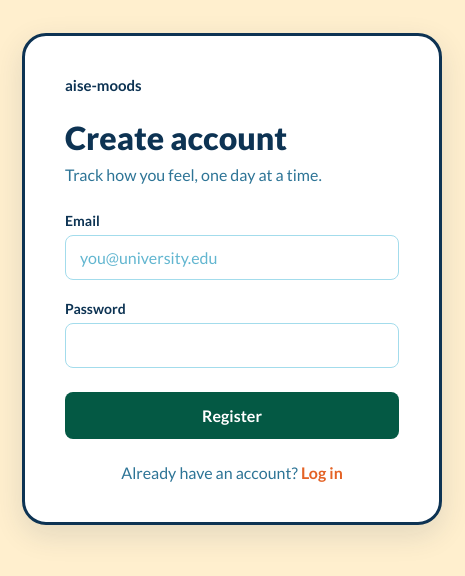
Test: Register screen › Input validation › shows error when email is empty
This screenshot has width=465, height=576.
Type "password123" into the password field labelled "Password" at (232, 346), box [65,323,399,368]
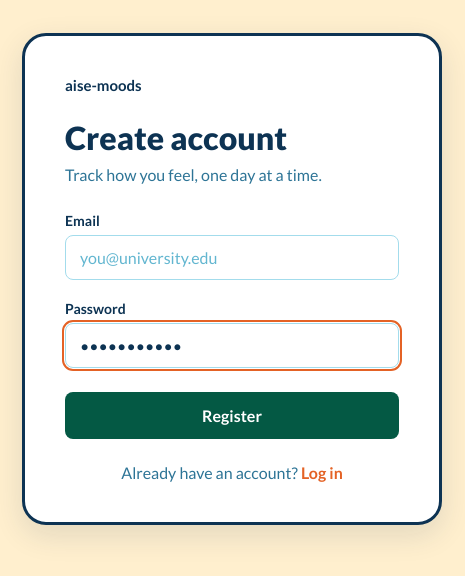
Click the button "Register" at (232, 416), box [65,392,399,439]
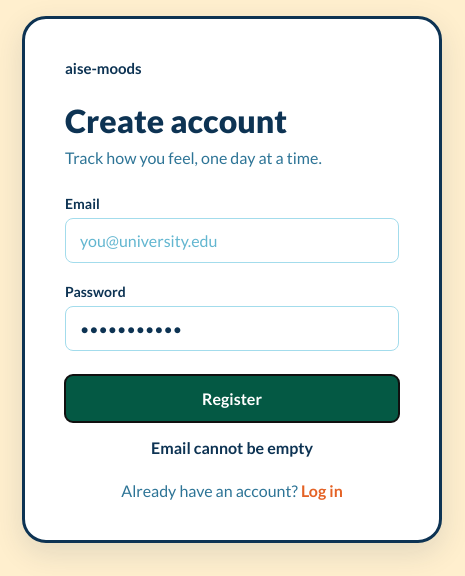
Now the text "Email cannot be empty" is shown, box [151,438,313,456]
